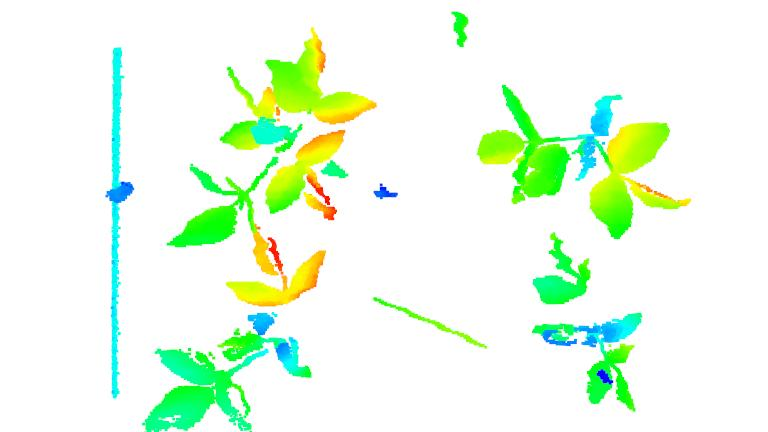mungbean: (167, 28, 377, 253), (144, 238, 331, 432), (475, 78, 694, 233), (535, 233, 648, 420)
